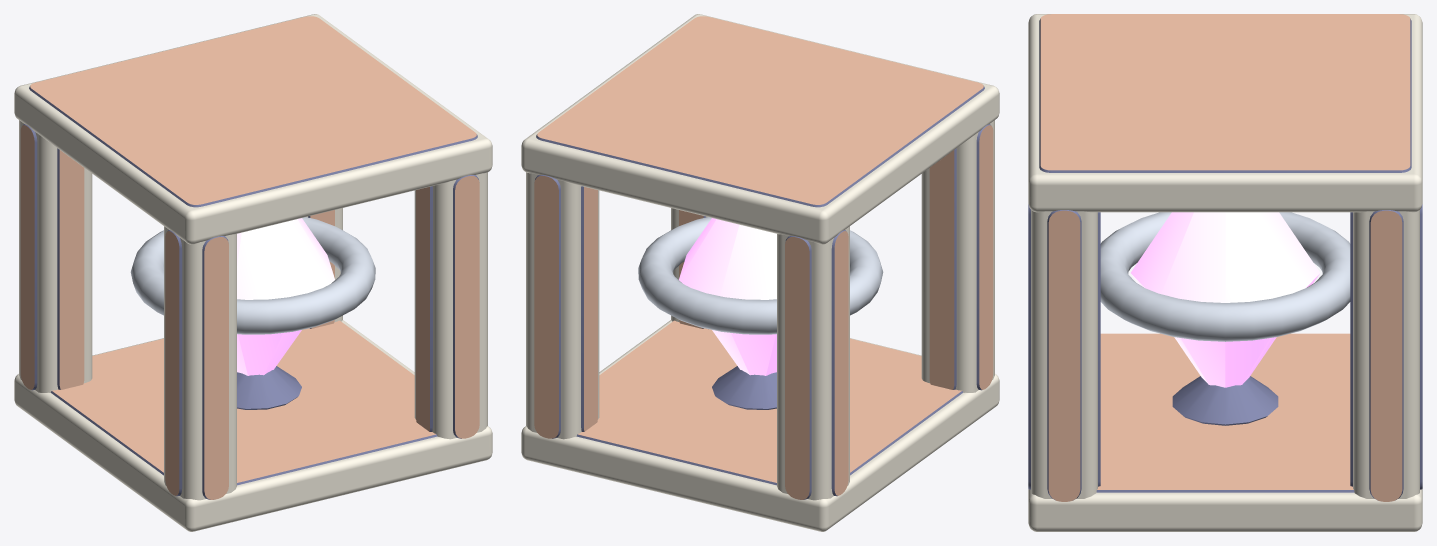
The model's file is R4X_CoreBooster.fbx.
3 renders of one model, left to right at view 1: azimuth 30°, elevation 25°; view 2: azimuth 150°, elevation 25°; view 3: azimuth 270°, elevation 25°, orthographic. The views are drawn at different scales.
Parts seen in each view (by area): view 1: R4X_CoreBooster_Body; view 2: R4X_CoreBooster_Body; view 3: R4X_CoreBooster_Body.
Part boxes in pixels (x1,y1,x2,y2): R4X_CoreBooster_Body: (14,14,492,531); R4X_CoreBooster_Body: (521,14,999,531); R4X_CoreBooster_Body: (1028,14,1422,531).
Size of the model in its own units: 0.5144 by 0.52 by 0.5144.
